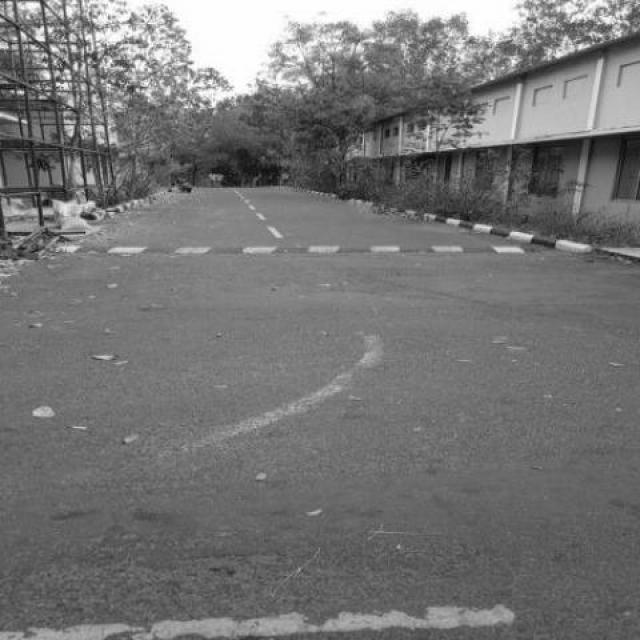Speed Bump: (51, 242, 558, 258)
